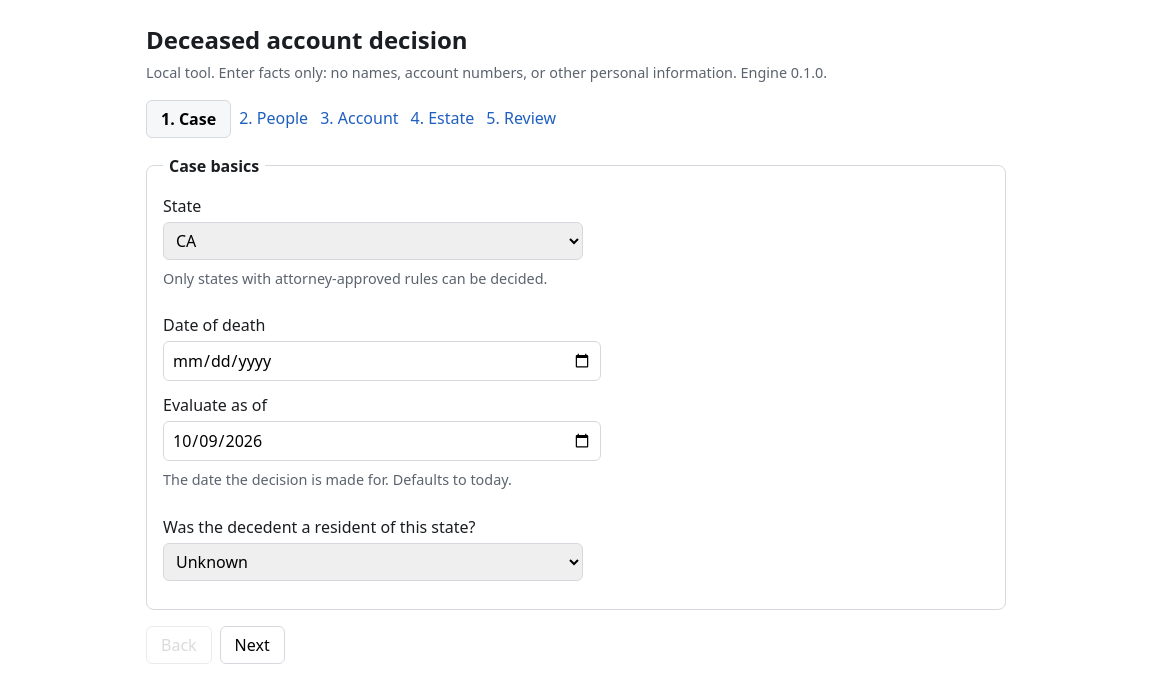
Test: validation errors jump to the step that owns the field
Click the button "5. Review" at (521, 118), box x1=482 y1=100 x2=560 y2=136
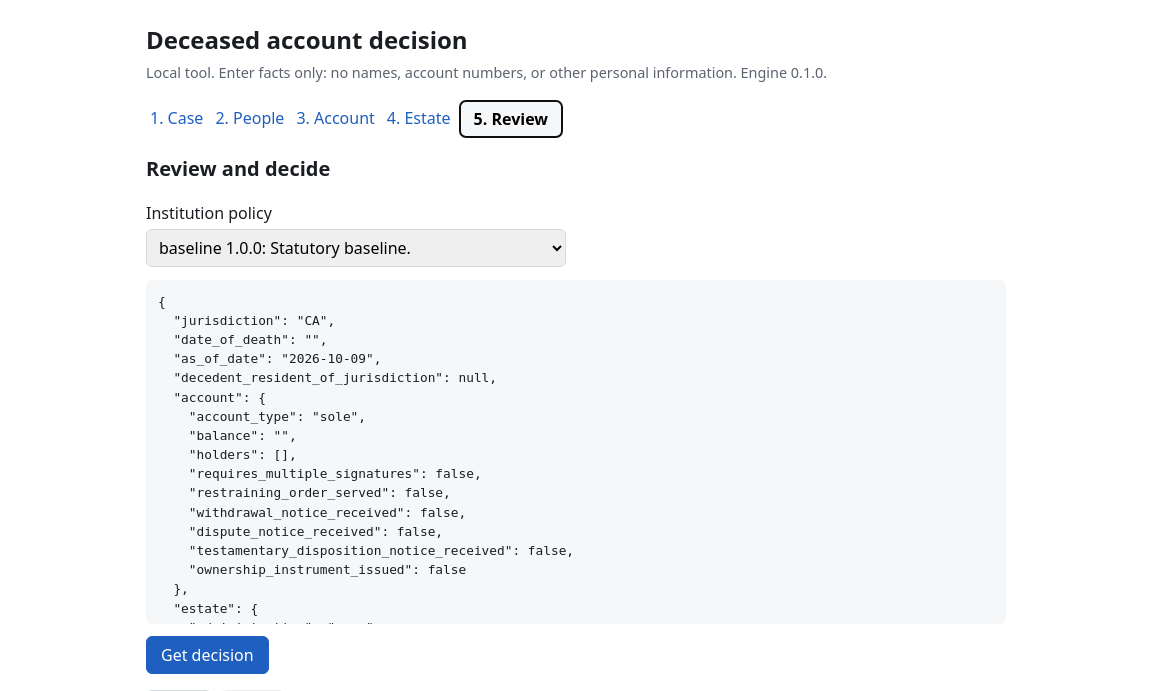
Click the button "Get decision" at (207, 655), box x1=146 y1=636 x2=269 y2=674
(page scrolled)
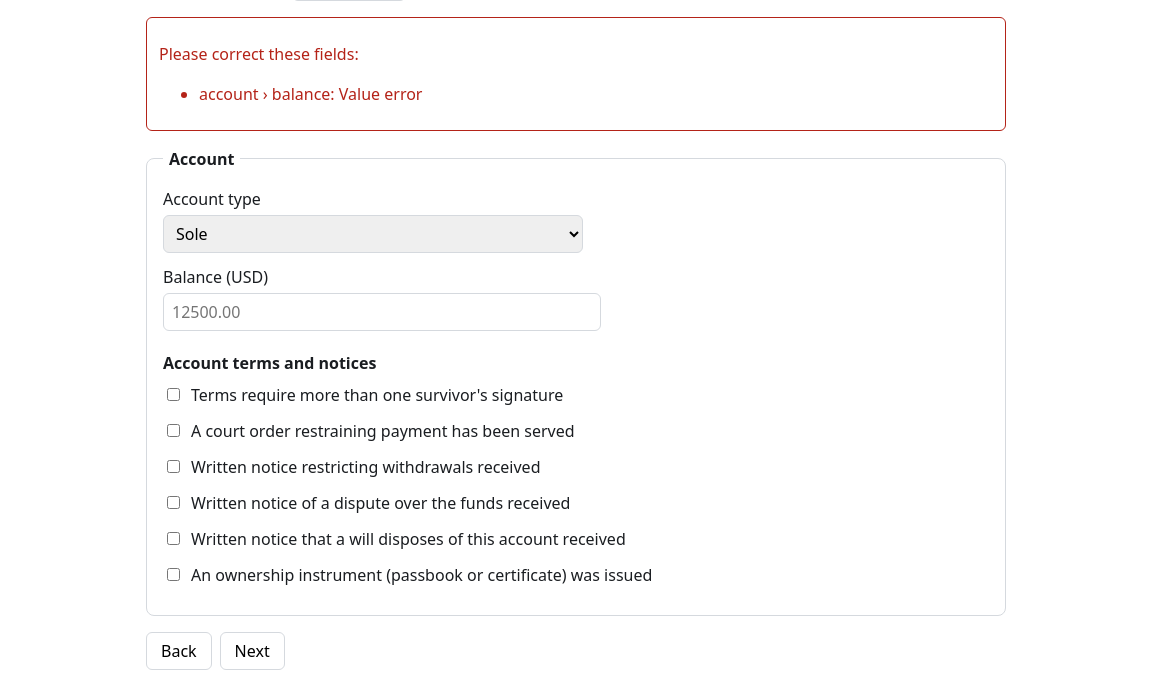
Now the list item "account › balance: Value error" is shown, box x1=199 y1=83 x2=422 y2=105
Now the element "Account" is shown, box x1=146 y1=147 x2=1006 y2=616
